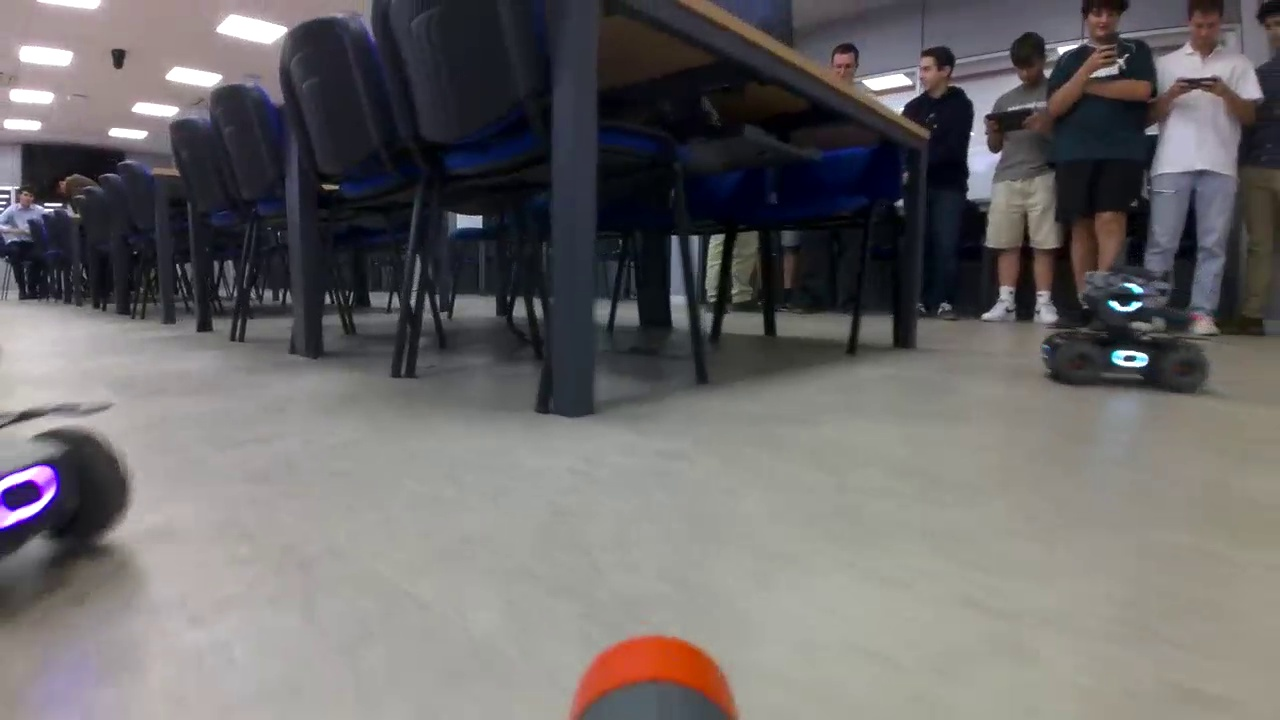robot: (1050, 257, 1213, 397), (1, 395, 130, 570)
